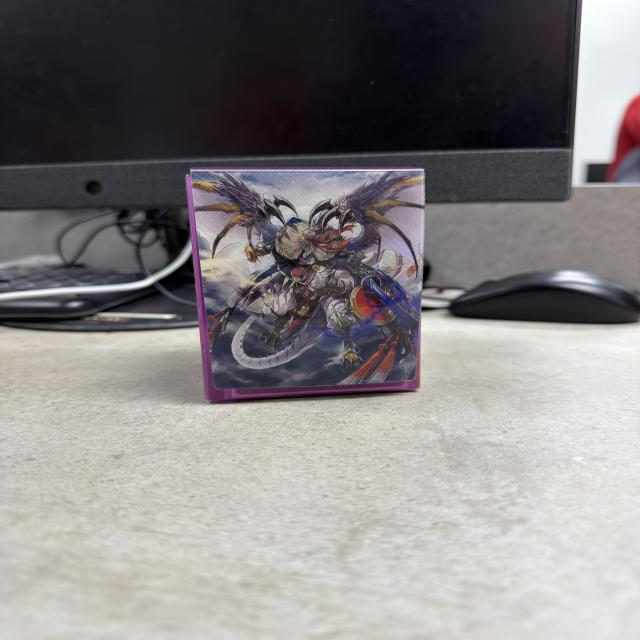box: (187, 167, 428, 399)
